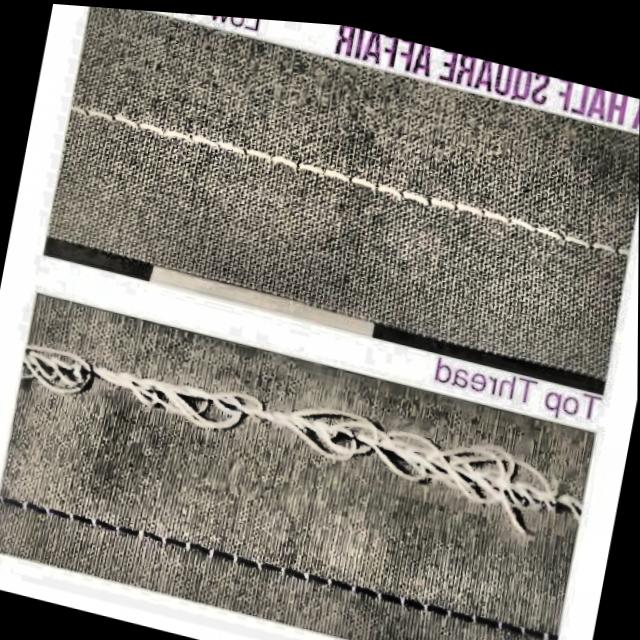Stitch: (255, 376, 596, 548), (0, 301, 261, 470)
